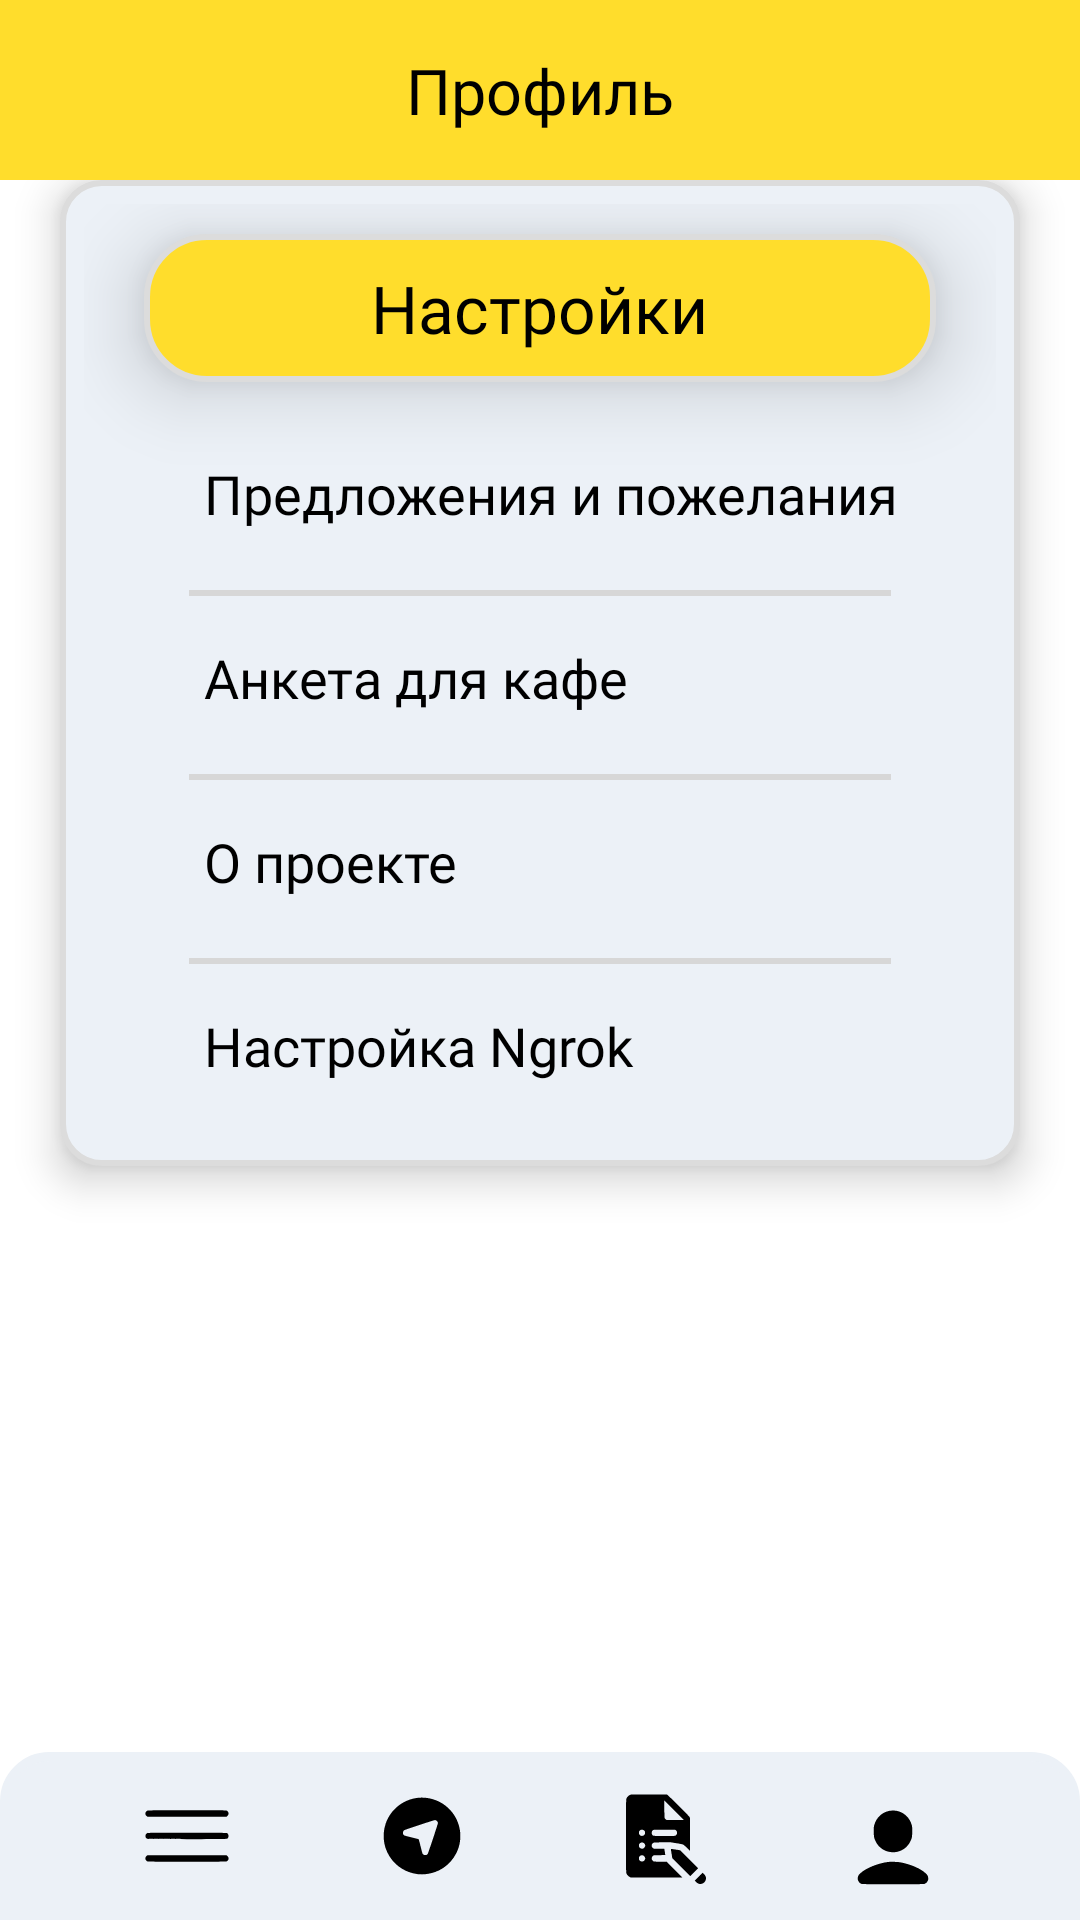

Where icons sit on this 1080px×1920px app screen, as (x1, y1, x2, y2):
near me: (383, 1797, 461, 1875)
reservation: (626, 1794, 706, 1884)
user: (857, 1810, 929, 1885)
